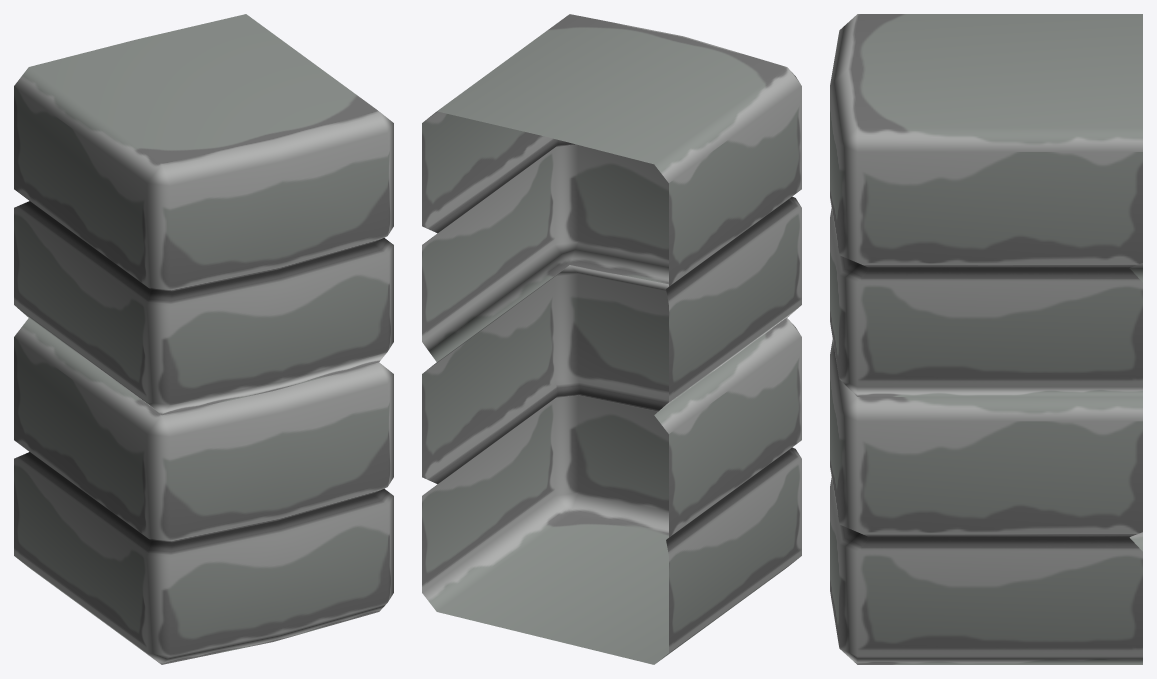
File: mod_med_platwall_03.fbx
3 views of the same model, side by side, from view 1: azimuth 30°, elevation 25°; view 2: azimuth 150°, elevation 25°; view 3: azimuth 270°, elevation 25° (orthographic). The views are drawn at different scales.
Parts seen in each view (by area): view 1: mod_med_platwall_a_01; view 2: mod_med_platwall_a_01; view 3: mod_med_platwall_a_01.
Boxes of the visible parts, x1,y1,x2,y2 form: mod_med_platwall_a_01: (14, 14, 393, 664); mod_med_platwall_a_01: (422, 14, 801, 664); mod_med_platwall_a_01: (830, 14, 1142, 664).
Bounding box in the file's own units: 11.74 × 22.81 × 12.02.
